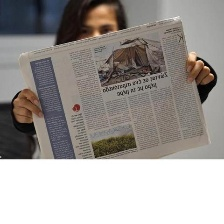news_paper: (14, 15, 213, 160)
